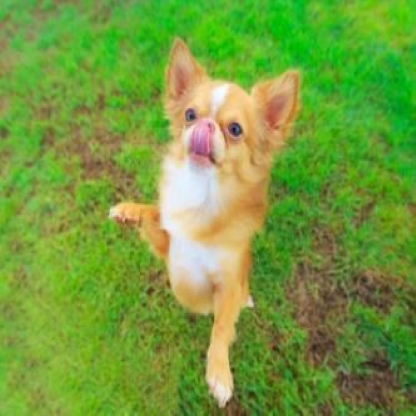chihuahua: (105, 35, 303, 409)
